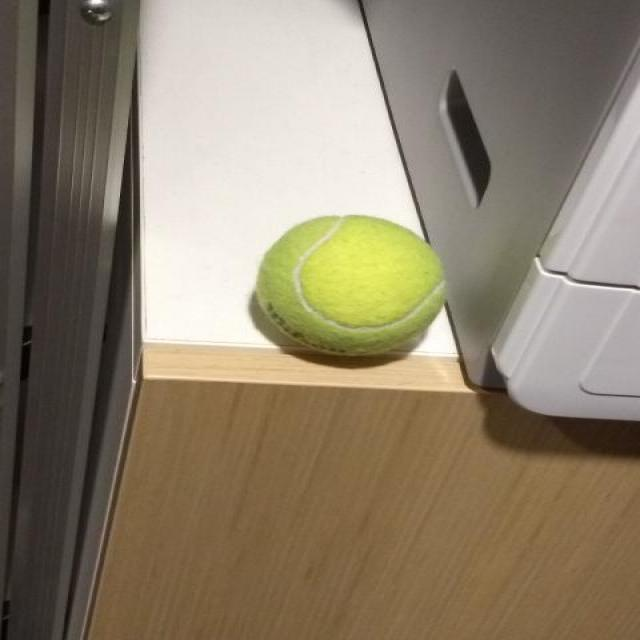tennis-ball: (254, 213, 448, 357)
